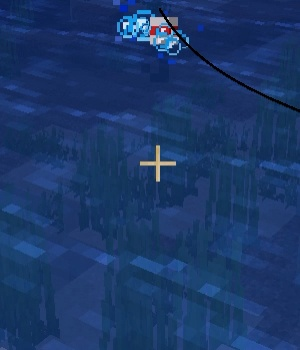up: (141, 9, 185, 76)
